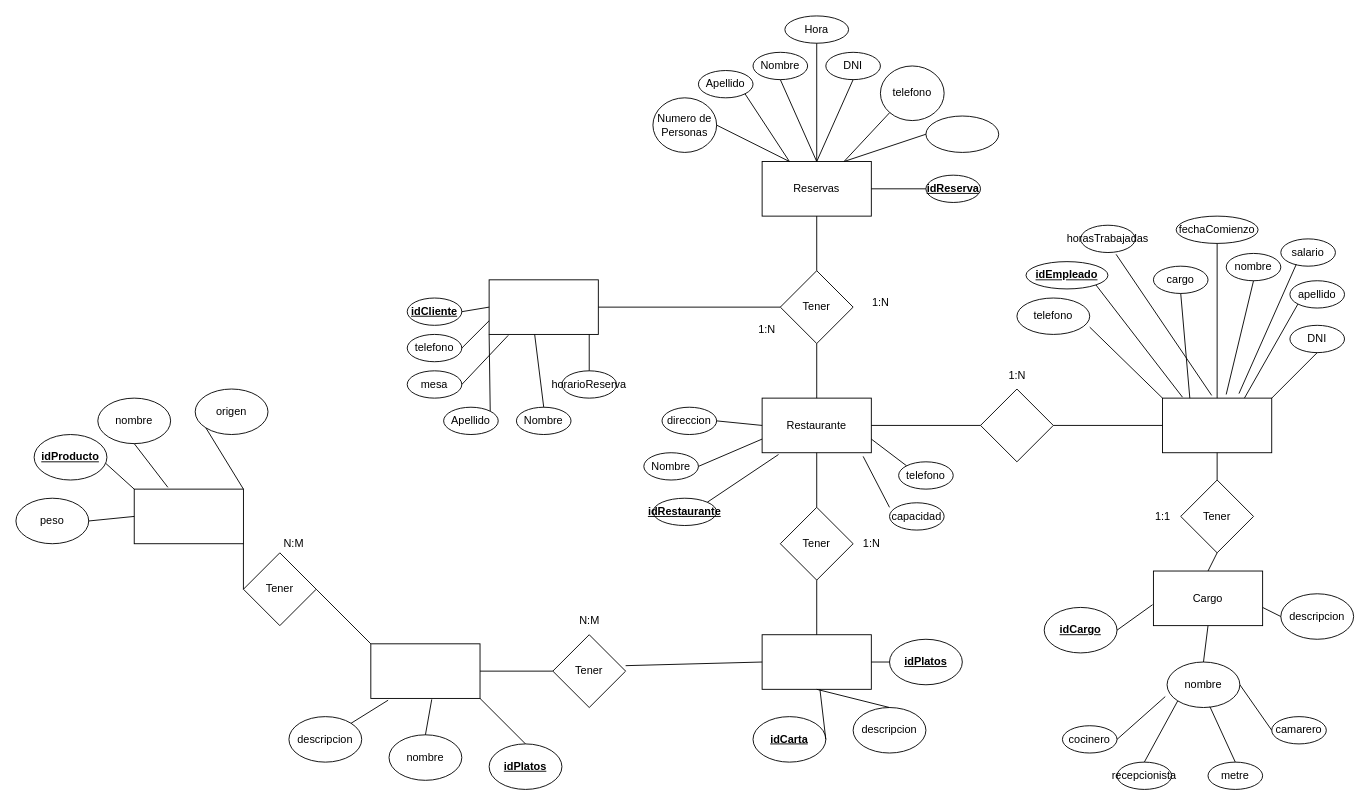
This 1370x805 diagram has some shape labels left out. The centre of each missing label's shape, as x and y in pixels:
"Carta" belongs at point 816,661.
"Clientes" belongs at point 543,306.
"Correo Electronico" belongs at point 962,133.
"Empleados" belongs at point 1217,425.
"Platos" belongs at point 425,670.
"productos" belongs at point 188,516.
"Trabajan" belongs at point 1016,425.
